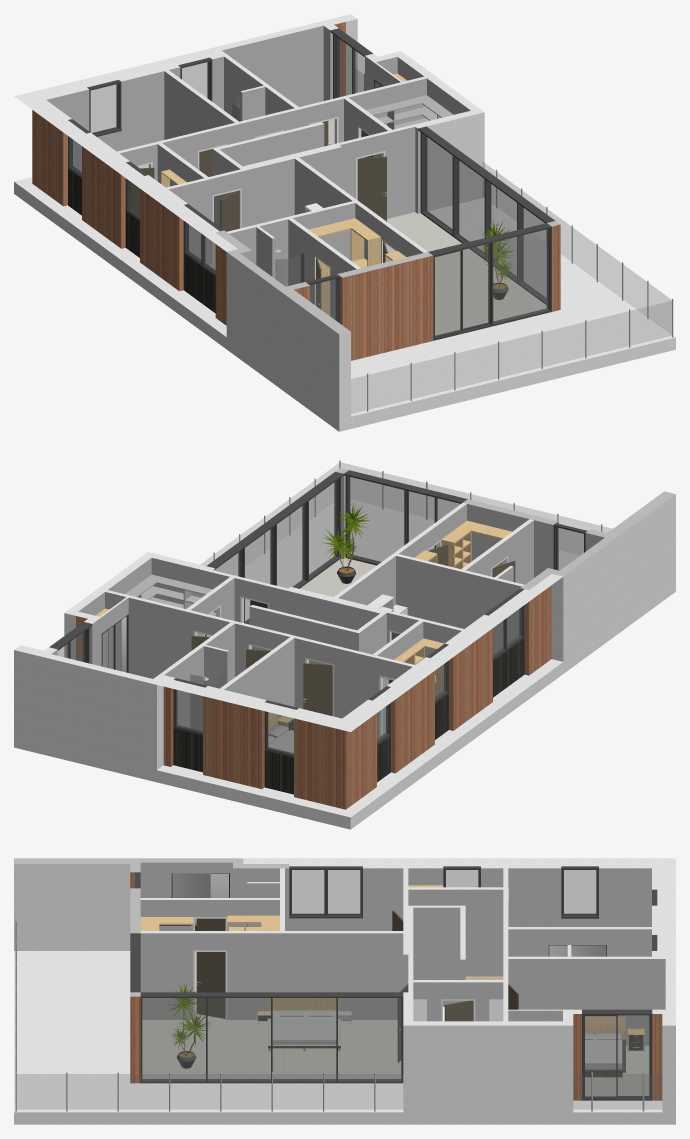
The model's file is 2nd floor.glb.
The picture shows the model from 3 angles, top to bottom: view 1: azimuth 30°, elevation 25°; view 2: azimuth 150°, elevation 25°; view 3: azimuth 270°, elevation 25°; orthographic projection.
Parts seen in each view (by area): view 1: root; view 2: root; view 3: root.
Part boxes in pixels (bbox=[...]): root: bbox=[14, 14, 675, 431]; root: bbox=[14, 460, 675, 829]; root: bbox=[14, 858, 675, 1124].
Size of the model in its own units: 11.57 by 3.2 by 19.34.
18 materials, 10 textured.
